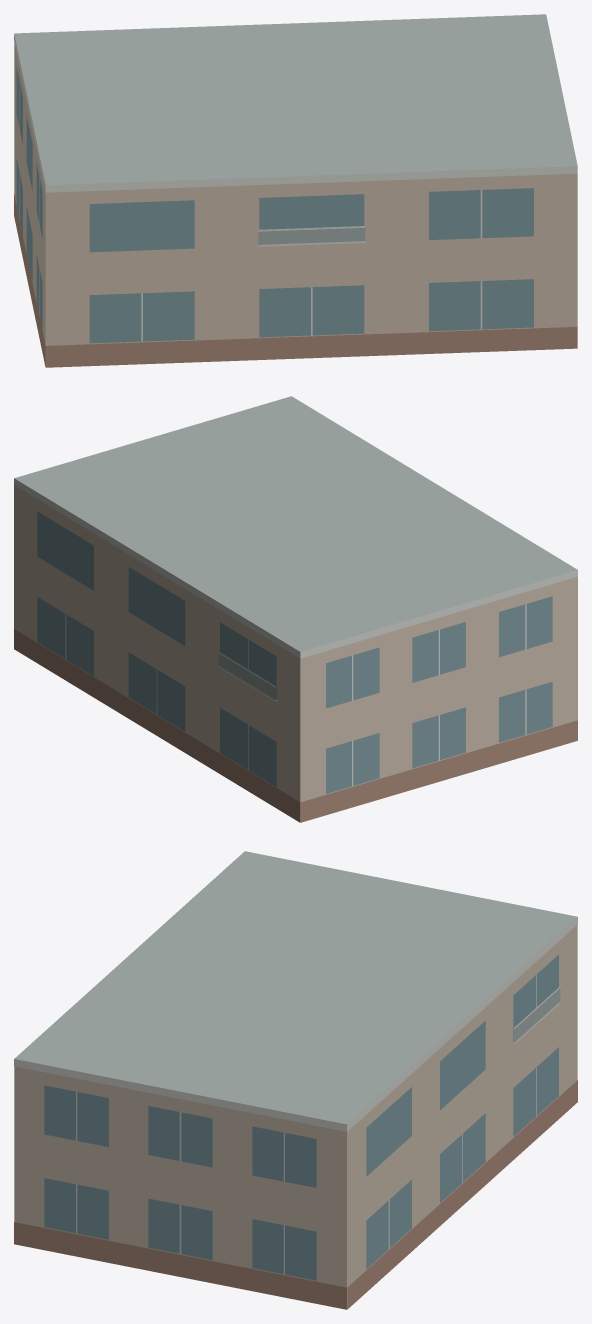
The model's file is survey-upis-32679216.glb.
3 views of the same model, one above another, from view 1: azimuth 30°, elevation 25°; view 2: azimuth 150°, elevation 25°; view 3: azimuth 270°, elevation 25° (orthographic). The views are drawn at different scales.
Parts seen in each view (by area): view 1: survey-upis-32679216.tmp; view 2: survey-upis-32679216.tmp; view 3: survey-upis-32679216.tmp.
Part boxes in pixels (x1,y1,x2,y2): survey-upis-32679216.tmp: (14,14,577,367); survey-upis-32679216.tmp: (14,396,577,822); survey-upis-32679216.tmp: (14,851,577,1309).
Size of the model in its own units: 19.3 by 6.1 by 16.83.
